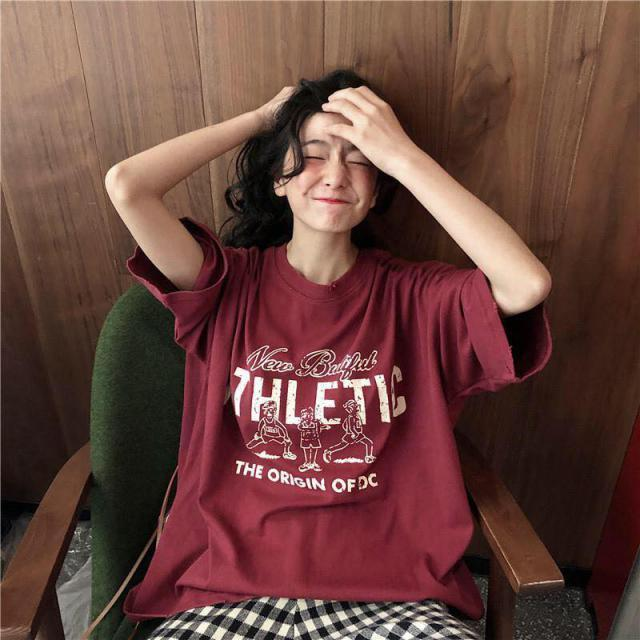Shirt: (115, 210, 562, 624)
